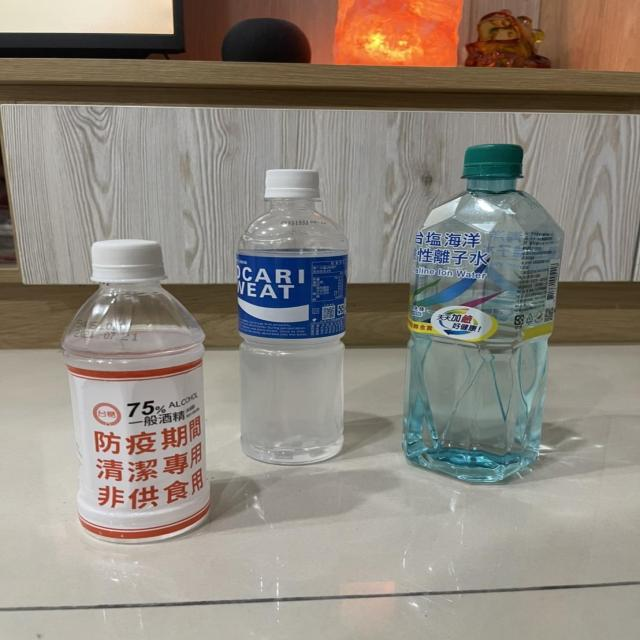bottle: (402, 141, 569, 484), (62, 236, 209, 542), (226, 161, 359, 469)
